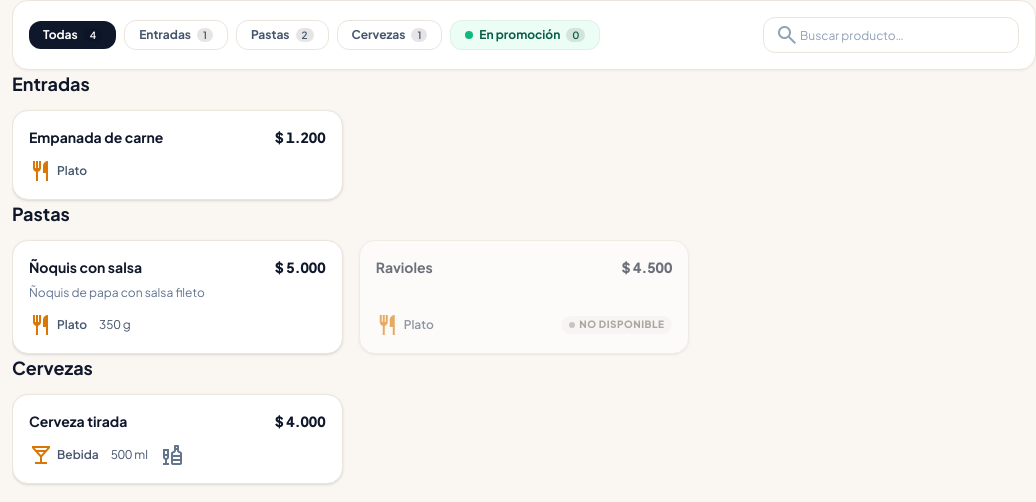
it: VerCartaPage › busca por nombre sin importar mayúsculas ni tildes
Type "NOQUIS" into the search field labelled "Buscar producto" at coordinates (891, 35), box [763, 17, 1019, 53]
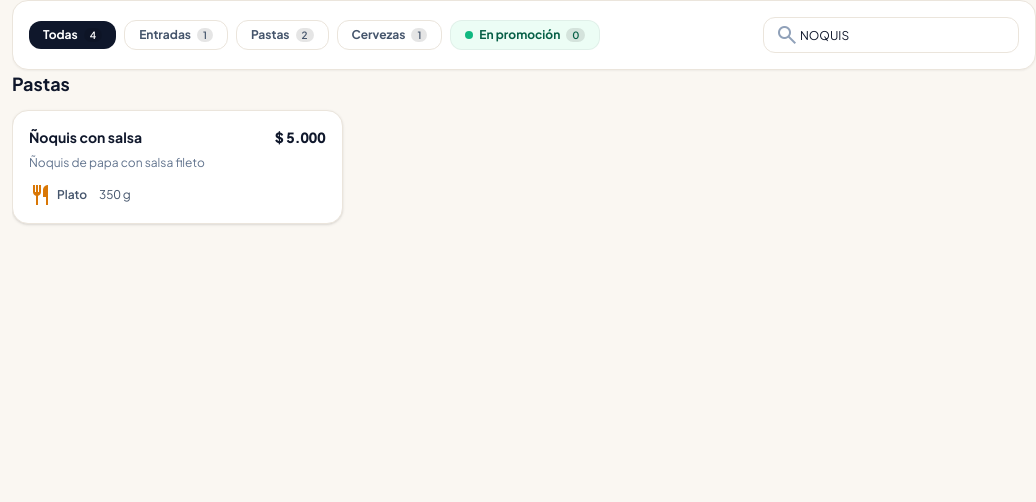
Expected: the heading "Ñoquis con salsa" is shown, [29, 127, 142, 147]
Result: the heading "Ravioles" is gone
Replace the text in the search field named "Buscar producto" with "milanesa" at coordinates (891, 35), box [763, 17, 1019, 53]
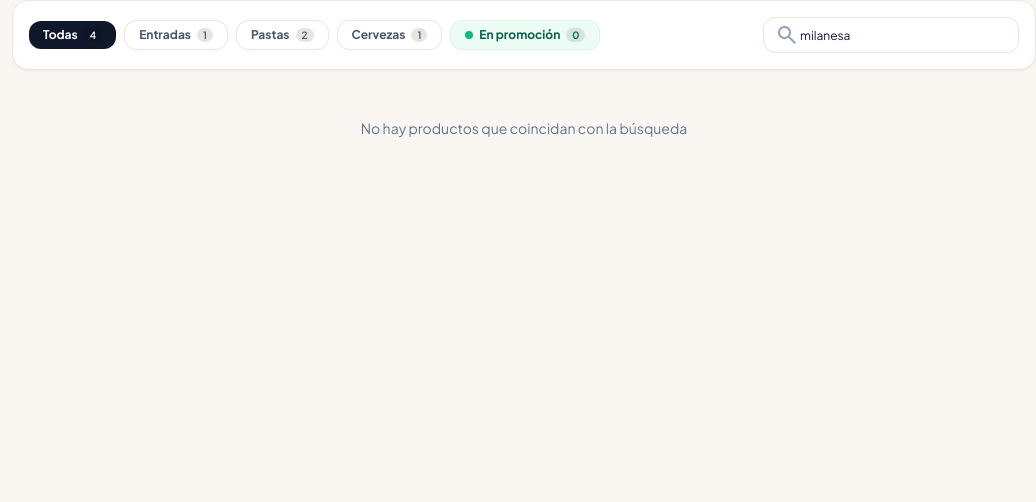
Result: the text "No hay productos que coincidan con la búsqueda" is shown at [361, 119, 687, 137]
